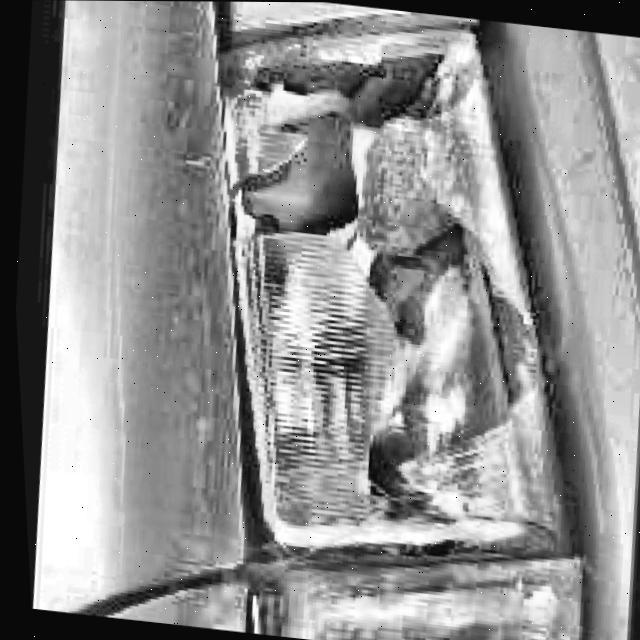head_lamp: (238, 24, 481, 270), (338, 261, 544, 501)
